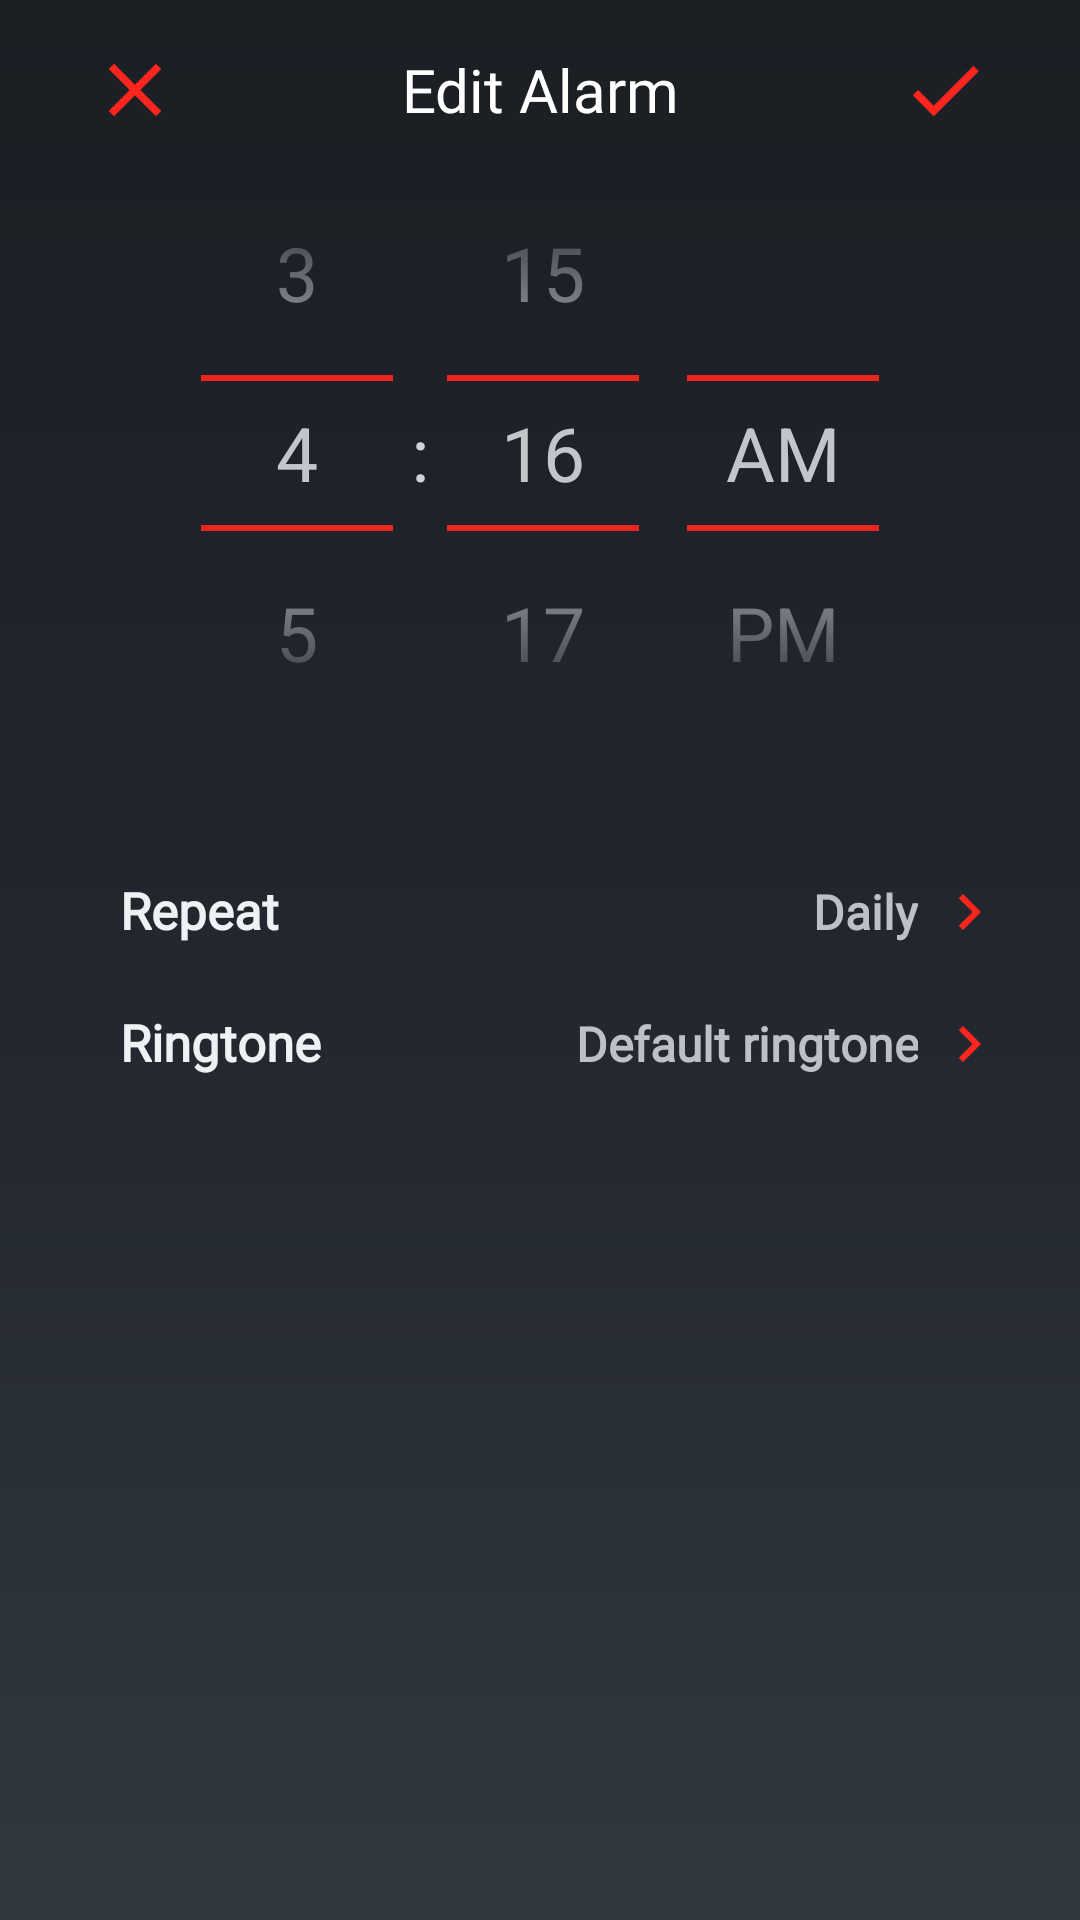

Where icons sit on this 1080 × 1920 app screen, as (x1,y1,x2,y2):
accept: (913,66,979,117)
cancel: (109,64,161,116)
chevron right: (959,894,981,930), (959,1026,981,1062)
